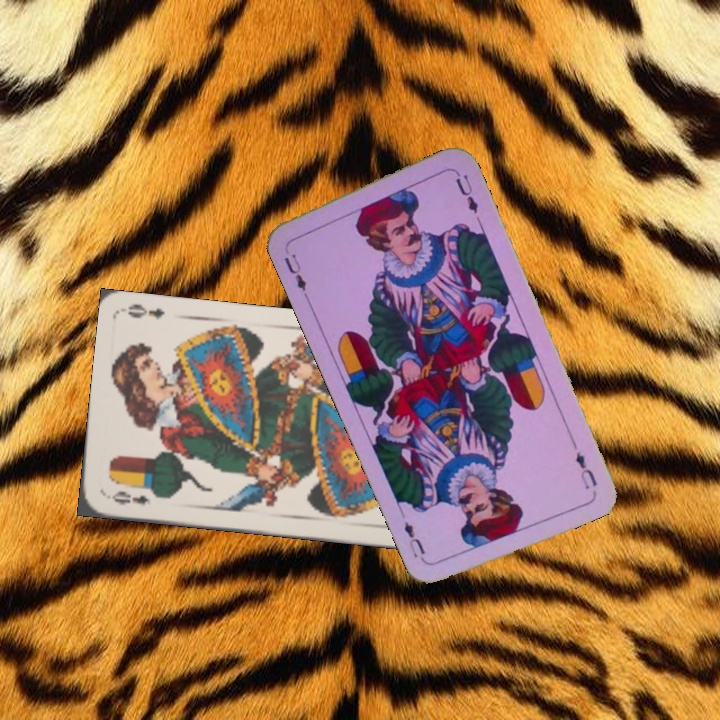EO: (104, 486, 163, 508)
EU: (280, 249, 311, 301), (571, 448, 600, 492)
